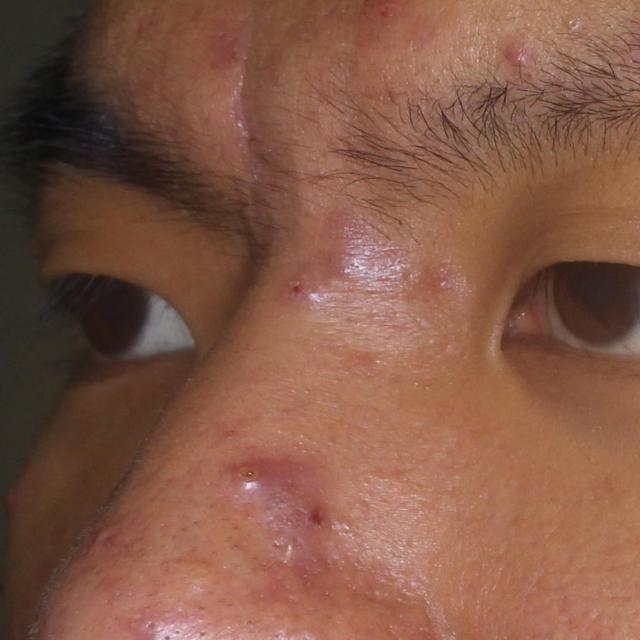nodules: (224, 443, 334, 583), (316, 196, 395, 318)
